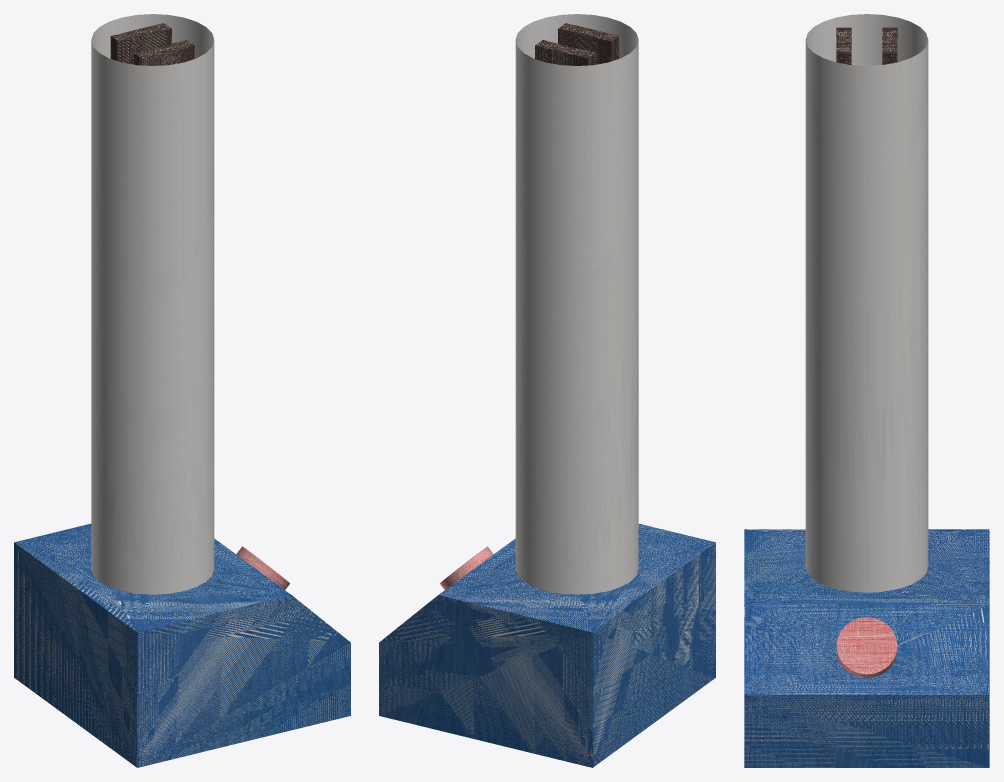
Rendered from van_de_graaff.dae.
3 views of the same model, side by side, from view 1: azimuth 30°, elevation 25°; view 2: azimuth 150°, elevation 25°; view 3: azimuth 270°, elevation 25° (orthographic).
Visible parts, largest first — view 1: SketchUp (×5); view 2: SketchUp (×5); view 3: SketchUp (×5).
Part boxes in pixels (x1,y1,x2,y2): SketchUp (×5): (14, 14, 350, 767); SketchUp (×5): (379, 14, 715, 767); SketchUp (×5): (744, 14, 989, 767).
Bounding box in the file's own units: 88.98 × 88.98 × 264.
